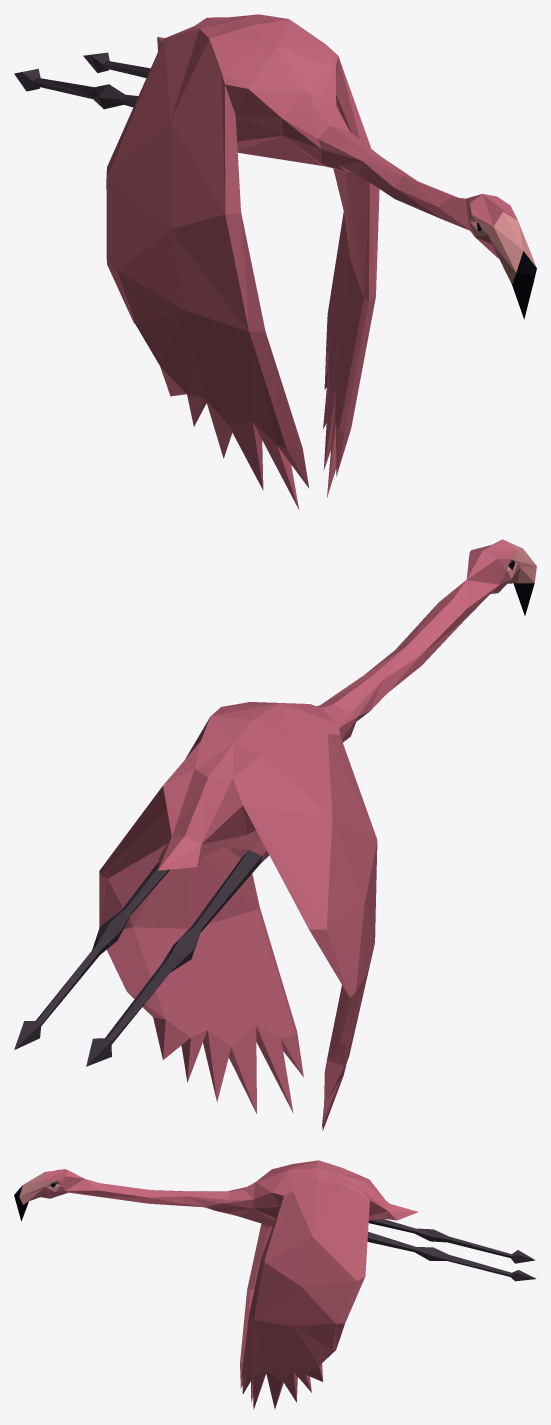
The model's file is Flamingo-Optimized.glb.
The picture shows the model from 3 angles, top to bottom: view 1: azimuth 30°, elevation 25°; view 2: azimuth 150°, elevation 25°; view 3: azimuth 270°, elevation 25°; orthographic projection. The views are drawn at different scales.
Visible parts, largest first — view 1: mesh_0; view 2: mesh_0; view 3: mesh_0.
Part boxes in pixels (left/top/right/bottom): mesh_0: left=14, top=14, right=536, bottom=509; mesh_0: left=14, top=539, right=536, bottom=1130; mesh_0: left=14, top=1160, right=536, bottom=1409.
Bounding box in the file's own units: 1709977 × 2919083 × 5786274.
